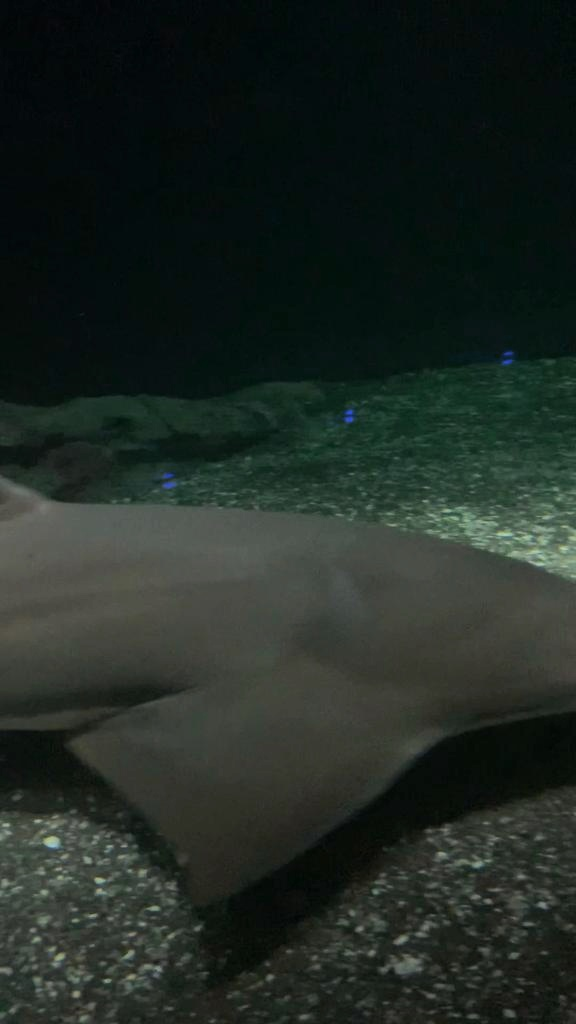shark: (0, 469, 575, 925)
